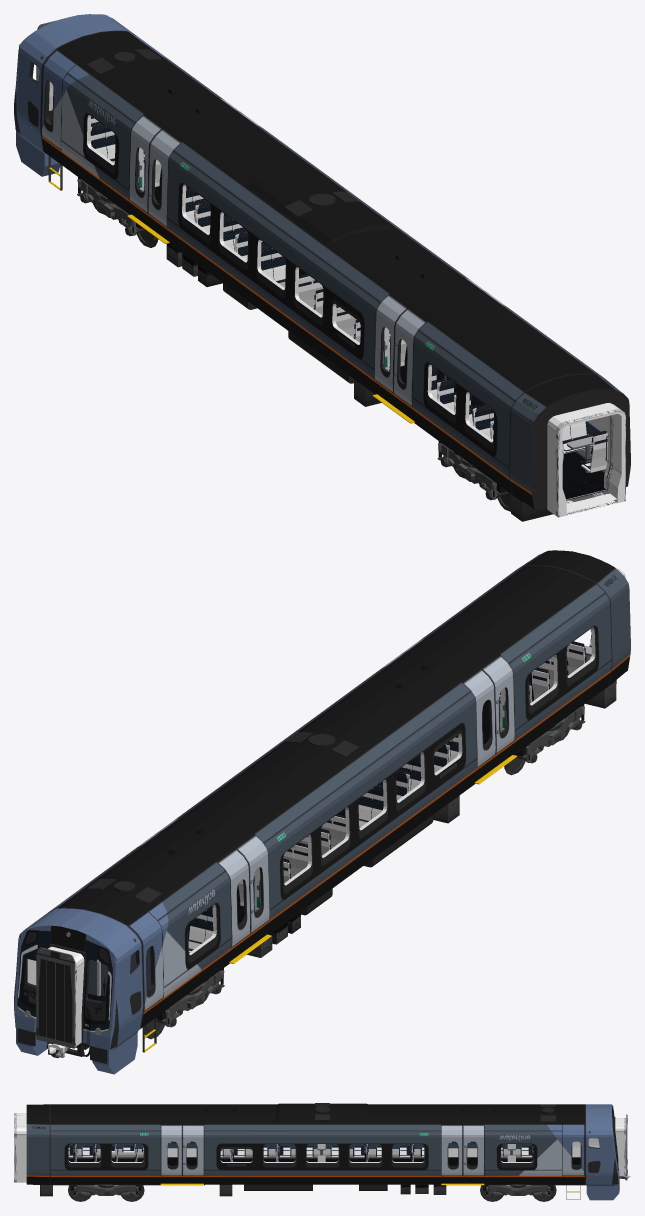
File: wmt_class730_mc_back.obj
3 renders of one model, top to bottom at view 1: azimuth 30°, elevation 25°; view 2: azimuth 150°, elevation 25°; view 3: azimuth 270°, elevation 25°, orthographic. The views are drawn at different scales.
Visible parts, largest first — view 1: side, jibung, oscarchair, mak, door_LB, door_LF, dt71, backout, habu, floor, aircon, sadari; view 2: side, jibung, oscarchair, front, front_mak, door_LB, door_LF, dt71, habu, sadari, aircon, driverwall (+2 smaller); view 3: side, jibung, oscarchair, heater, dt71, door_RB, door_RF, habu, mak, floor, sadari, aircon (+4 smaller).
Part boxes in pixels (x1=…): side: x1=14, y1=15, x2=630, y2=509; jibung: x1=18, y1=14, x2=614, y2=406; oscarchair: x1=90, y1=116, x2=607, y2=472; mak: x1=37, y1=67, x2=625, y2=517; door_LB: x1=148, y1=143, x2=415, y2=421; door_LF: x1=129, y1=129, x2=395, y2=407; dt71: x1=77, y1=177, x2=510, y2=511; backout: x1=535, y1=389, x2=627, y2=508; habu: x1=166, y1=243, x2=553, y2=521; floor: x1=51, y1=121, x2=605, y2=499; aircon: x1=87, y1=49, x2=427, y2=279; sadari: x1=16, y1=130, x2=62, y2=190; side: x1=25, y1=552, x2=630, y2=1049; jibung: x1=22, y1=550, x2=614, y2=963; oscarchair: x1=188, y1=629, x2=591, y2=952; front: x1=14, y1=925, x2=117, y2=1050; front_mak: x1=36, y1=947, x2=75, y2=1048; door_LB: x1=248, y1=669, x2=515, y2=947; door_LF: x1=229, y1=683, x2=496, y2=961; dt71: x1=144, y1=704, x2=585, y2=1039; habu: x1=83, y1=680, x2=616, y2=1044; sadari: x1=16, y1=1017, x2=156, y2=1074; aircon: x1=87, y1=663, x2=427, y2=903; driverwall: x1=88, y1=947, x2=150, y2=996; side: x1=26, y1=1124, x2=618, y2=1184; jibung: x1=26, y1=1103, x2=612, y2=1134; oscarchair: x1=68, y1=1144, x2=533, y2=1161; heater: x1=68, y1=1144, x2=532, y2=1158; dt71: x1=68, y1=1184, x2=556, y2=1201; door_RB: x1=160, y1=1135, x2=462, y2=1183; door_RF: x1=182, y1=1135, x2=484, y2=1183; habu: x1=27, y1=1184, x2=586, y2=1196; mak: x1=14, y1=1113, x2=626, y2=1182; floor: x1=68, y1=1157, x2=580, y2=1165; sadari: x1=566, y1=1184, x2=619, y2=1200; aircon: x1=203, y1=1103, x2=555, y2=1121.
Bounding box in the file's own units: 2.88 × 3.86 × 25.22.
36 materials, 35 textured.
